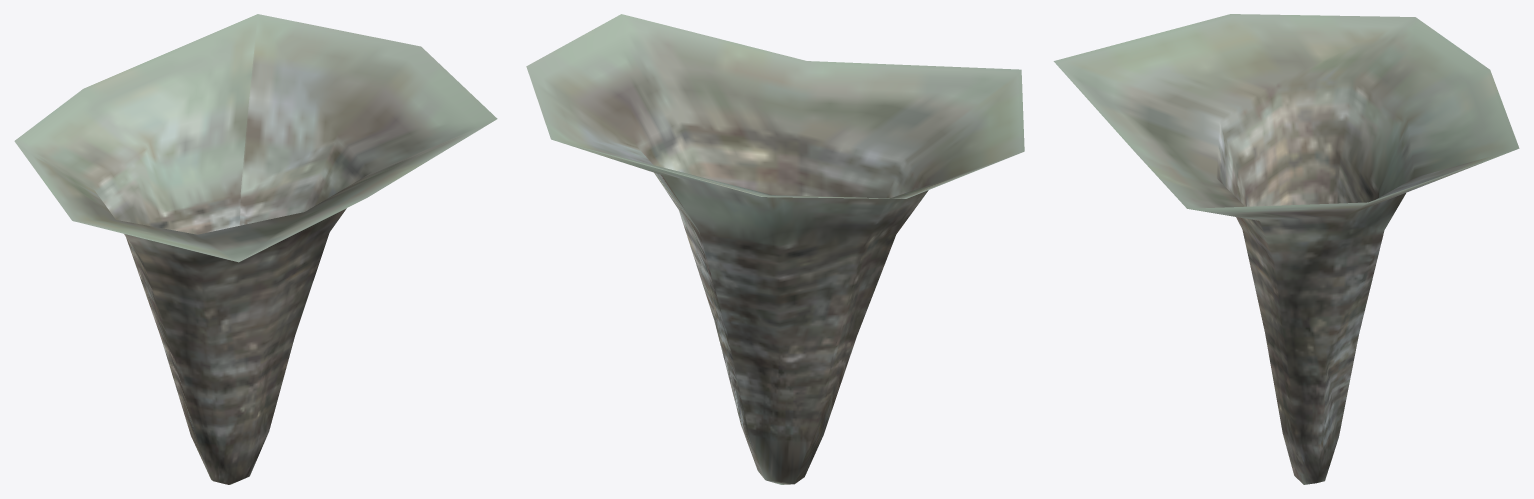
The model's file is TROLLHOLE02_PS-MAINSTALAG74.fbx.
The picture shows the model from 3 angles, left to right: view 1: azimuth 30°, elevation 25°; view 2: azimuth 150°, elevation 25°; view 3: azimuth 270°, elevation 25°; orthographic projection. The views are drawn at different scales.
Parts seen in each view (by area): view 1: TROLLHOLE02_PS-MAINSTALAG74; view 2: TROLLHOLE02_PS-MAINSTALAG74; view 3: TROLLHOLE02_PS-MAINSTALAG74.
Part boxes in pixels (x1=…): TROLLHOLE02_PS-MAINSTALAG74: x1=14, y1=14, x2=497, y2=484; TROLLHOLE02_PS-MAINSTALAG74: x1=526, y1=14, x2=1024, y2=484; TROLLHOLE02_PS-MAINSTALAG74: x1=1053, y1=14, x2=1519, y2=484.
Size of the model in its own units: 18133 by 15553 by 16389.
Materials: 1 (1 with a texture image).
